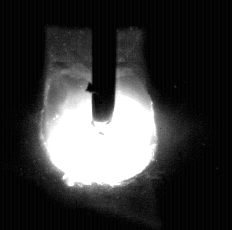arame: (93, 0, 116, 136)
poca: (41, 0, 159, 230)
